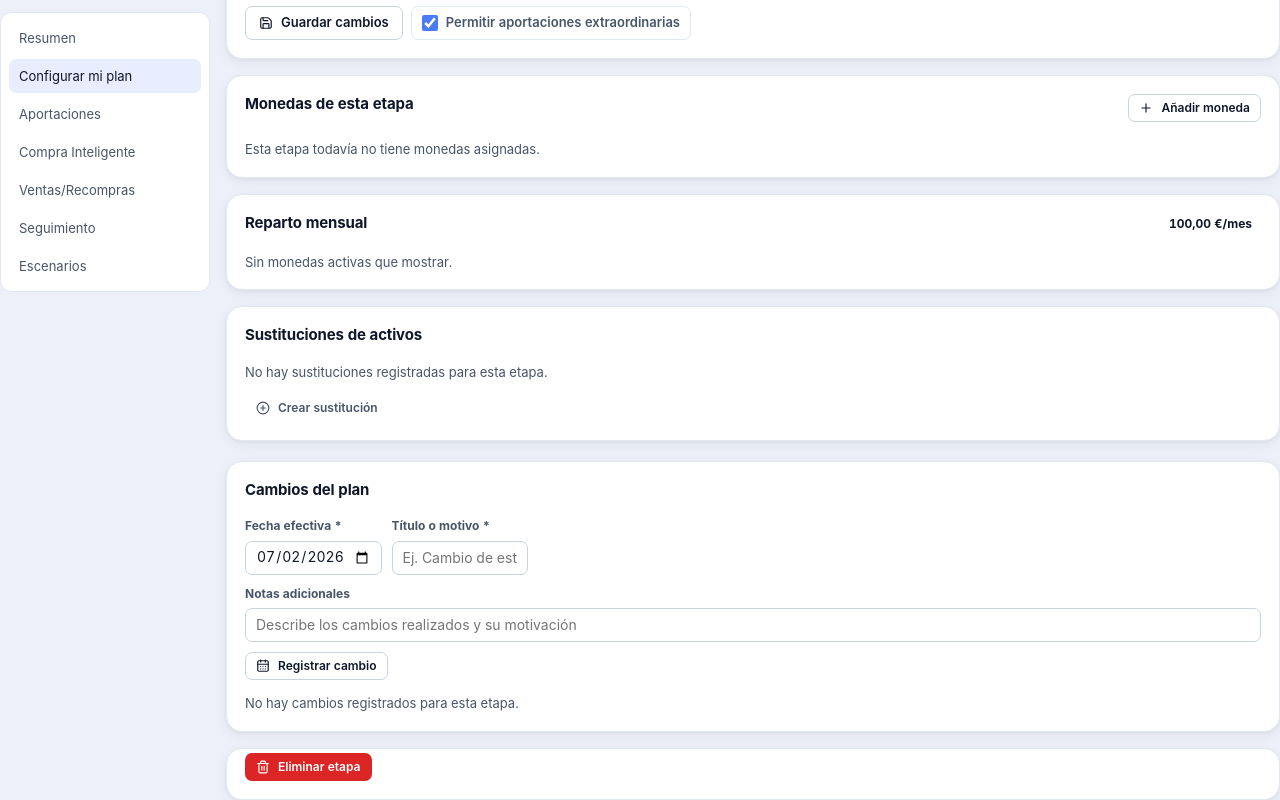
Test: PlanCambiosEstrategia — revisiones de estrategia › valida que el título sea obligatorio
(page scrolled)
Check: the heading "Cambios del plan" is shown, box [245,480,369,499]
Click the button "Registrar cambio" at coordinates (316, 666), box [245,652,388,680]
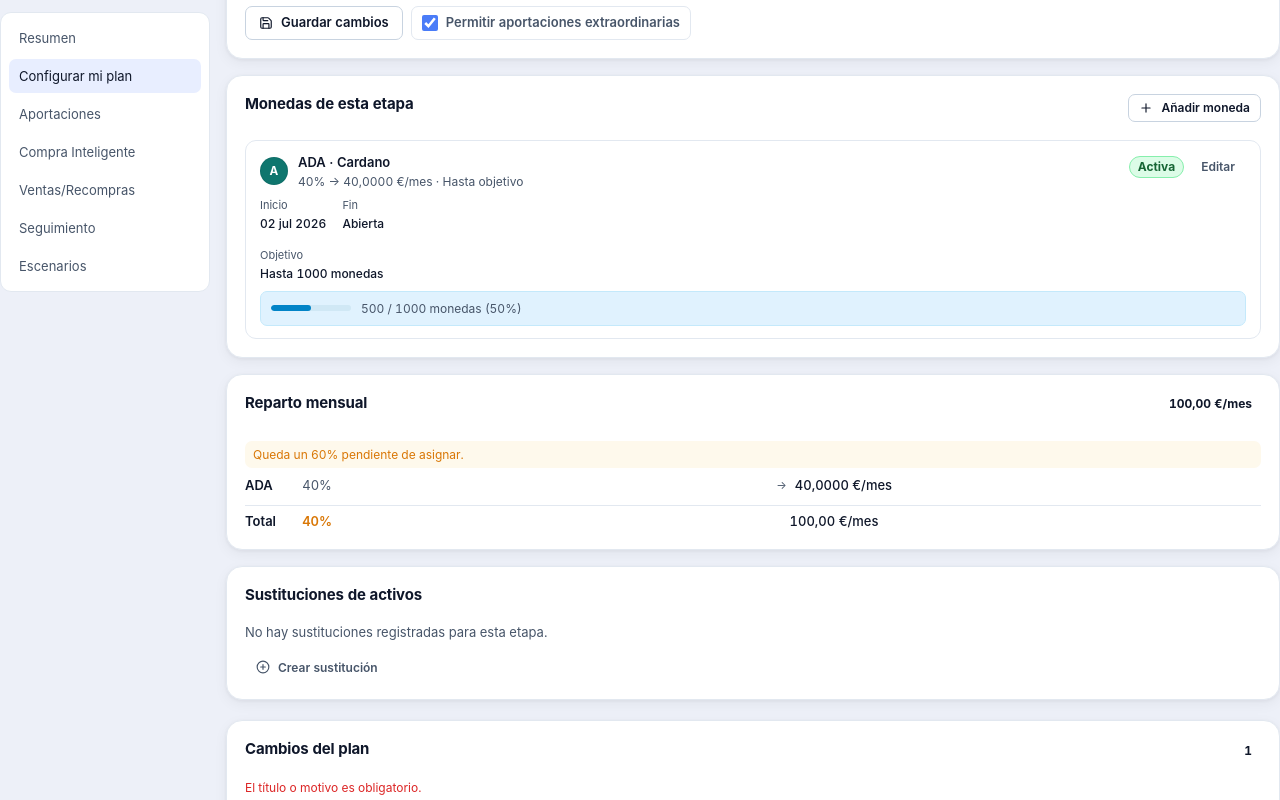
Check: the text "El título o motivo es obligatorio." is shown, box [245,780,421,795]
